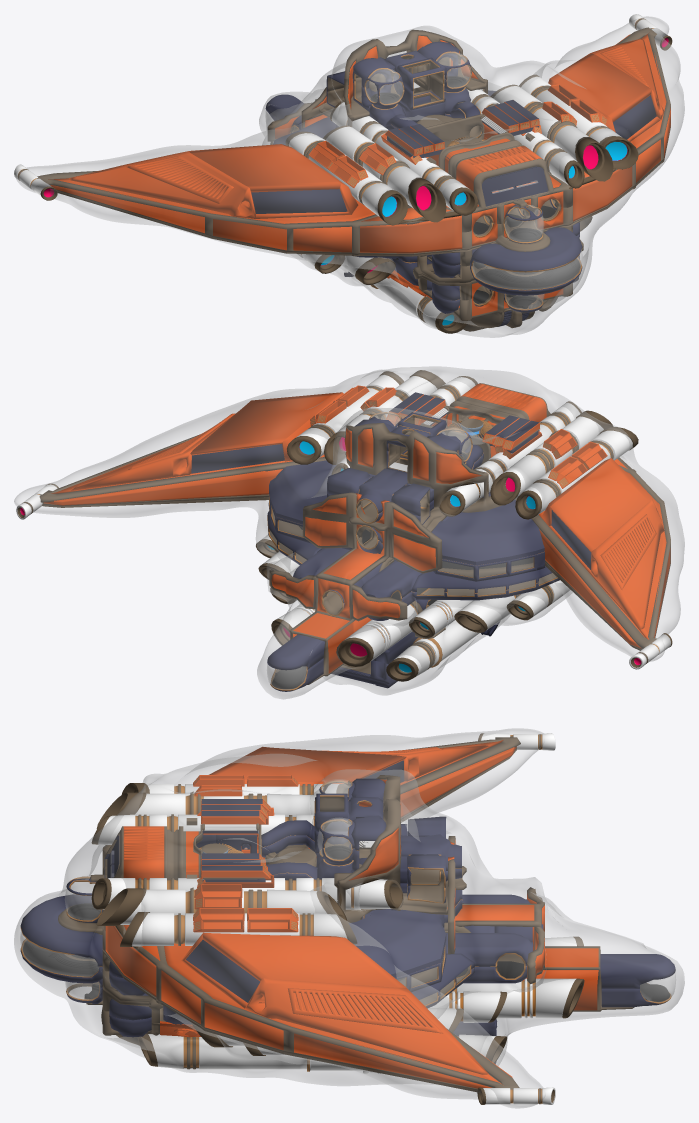
Rendered from spiderhawk-splash.glb.
3 views of the same model, one above another, from view 1: azimuth 30°, elevation 25°; view 2: azimuth 150°, elevation 25°; view 3: azimuth 270°, elevation 25° (orthographic). The views are drawn at different scales.
Parts seen in each view (by area): view 1: ship shield, platting_frame, engines, windows, floor pannels, 3rd deck roof, 6th deck roof, 5th deck roof, 6th deck floor, missle forward hatch.R, drone doors, 3rd deck floor (+8 smaller); view 2: ship shield, platting_frame, engines, 4th deck roof, 3rd deck roof, 5th deck roof, windows, 4th deck floor, 3rd deck floor, 6th deck roof, missle rear hatch.L, 2nd deck roof (+7 smaller); view 3: ship shield, platting_frame, engines, 3rd deck roof, windows, 4th deck roof, 5th deck roof, 6th deck roof, floor pannels, 2nd deck roof, 3rd deck floor, 2nd deck floor (+7 smaller).
Part boxes in pixels (x1,y1,x2,y2): ship shield: [15, 16, 684, 337]; platting_frame: [37, 27, 670, 331]; engines: [14, 14, 672, 333]; windows: [265, 52, 582, 309]; floor pannels: [371, 76, 580, 308]; 3rd deck roof: [290, 115, 582, 272]; 6th deck roof: [352, 41, 471, 95]; 5th deck roof: [326, 59, 481, 128]; 6th deck floor: [353, 57, 471, 110]; missle forward hatch.R: [251, 189, 347, 213]; drone doors: [482, 166, 548, 207]; 3rd deck floor: [292, 129, 582, 295]; ship shield: [14, 366, 684, 699]; platting_frame: [39, 383, 670, 684]; engines: [16, 370, 672, 681]; 4th deck roof: [269, 460, 544, 565]; 3rd deck roof: [267, 511, 552, 603]; 5th deck roof: [327, 444, 483, 516]; windows: [267, 411, 555, 689]; 4th deck floor: [268, 492, 545, 581]; 3rd deck floor: [267, 518, 559, 620]; 6th deck roof: [354, 412, 472, 454]; missle rear hatch.L: [191, 444, 284, 473]; 2nd deck roof: [267, 599, 430, 670]; ship shield: [14, 728, 684, 1108]; platting_frame: [58, 736, 634, 1092]; engines: [91, 733, 584, 1104]; 3rd deck roof: [20, 894, 543, 999]; windows: [20, 779, 675, 1002]; 4th deck roof: [66, 831, 462, 977]; 5th deck roof: [261, 816, 461, 887]; 6th deck roof: [314, 778, 386, 850]; floor pannels: [23, 845, 669, 1001]; 2nd deck roof: [98, 954, 675, 1020]; 3rd deck floor: [20, 939, 526, 1008]; 2nd deck floor: [66, 982, 671, 1037].
Size of what is drawn, in the model's own units: 52.16 by 19.02 by 39.9.
